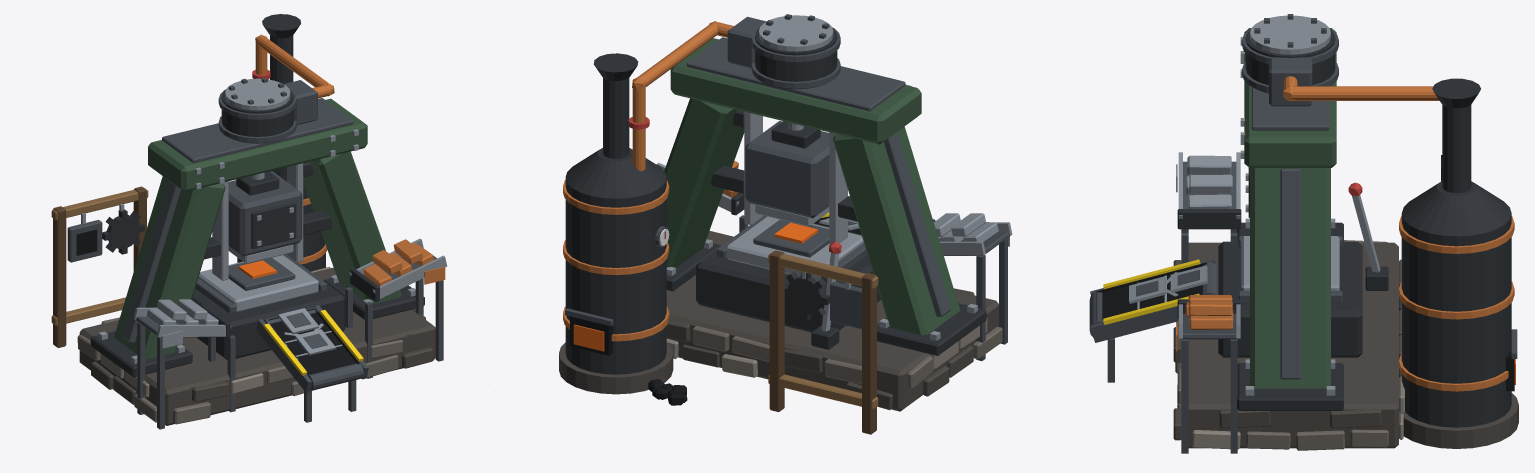
Rendered from estampeuse_t1.glb.
3 renders of one model, left to right at view 1: azimuth 30°, elevation 25°; view 2: azimuth 150°, elevation 25°; view 3: azimuth 270°, elevation 25°, orthographic. The views are drawn at different scales.
Parts seen in each view (by area): view 1: pieces_acier_sombre.015, massif.005, jambe_-1.003, pieces_acier.015, jambe_1.003, traverse.003, pieces_fonte.015, chabotte.003, pieces_cuivre.007, traverse_chapeau.003, marteau_masse.003, pieces_pierre.009 (+20 smaller); view 2: chaudiere.005, jambe_-1.003, massif.005, traverse.003, jambe_1.003, pieces_acier_sombre.015, pieces_fonte.015, marteau_masse.003, pieces_acier.015, chabotte.003, pieces_bois_sombre.005, traverse_chapeau.003 (+25 smaller); view 3: chaudiere.005, jambe_1.003, massif.005, pieces_acier_sombre.015, pieces_fonte.015, chabotte.003, pieces_acier.015, chaudiere_dome.005, traverse.003, pieces_cuivre.007, pieces_pierre.009, chaudiere_socle.005 (+17 smaller).
Part boxes in pixels (box(x1,y1,x2,y2)): pieces_acier_sombre.015: box(67, 77, 443, 429); massif.005: box(79, 267, 435, 425); jambe_-1.003: box(114, 176, 225, 358); pieces_acier.015: box(81, 129, 447, 363); jambe_1.003: box(303, 151, 401, 303); traverse.003: box(148, 98, 367, 191); pieces_fonte.015: box(90, 35, 424, 377); chabotte.003: box(192, 284, 345, 359); pieces_cuivre.007: box(255, 34, 445, 286); traverse_chapeau.003: box(162, 98, 353, 162); marteau_masse.003: box(228, 171, 302, 256); pieces_pierre.009: box(77, 317, 403, 424); chaudiere.005: box(565, 178, 666, 374); jambe_-1.003: box(833, 126, 960, 335); massif.005: box(666, 230, 998, 411); traverse.003: box(670, 38, 921, 144); jambe_1.003: box(664, 98, 744, 267); pieces_acier_sombre.015: box(565, 14, 1009, 360); pieces_fonte.015: box(603, 77, 986, 355); marteau_masse.003: box(745, 121, 829, 218); pieces_acier.015: box(656, 84, 1012, 340); chabotte.003: box(696, 250, 880, 332); pieces_bois_sombre.005: box(769, 250, 876, 434); traverse_chapeau.003: box(686, 37, 905, 111); chaudiere.005: box(1401, 213, 1511, 427); jambe_1.003: box(1250, 168, 1330, 388); massif.005: box(1188, 242, 1398, 448); pieces_acier_sombre.015: box(1089, 14, 1517, 453); pieces_fonte.015: box(1177, 105, 1471, 410); chabotte.003: box(1218, 241, 1362, 357); pieces_acier.015: box(1137, 37, 1380, 395); chaudiere_dome.005: box(1402, 181, 1511, 236); traverse.003: box(1244, 28, 1336, 167); pieces_cuivre.007: box(1176, 76, 1439, 351); pieces_pierre.009: box(1175, 240, 1401, 450); chaudiere_socle.005: box(1403, 393, 1518, 448).
Size of the model in its own units: 2 by 1.73 by 2.
